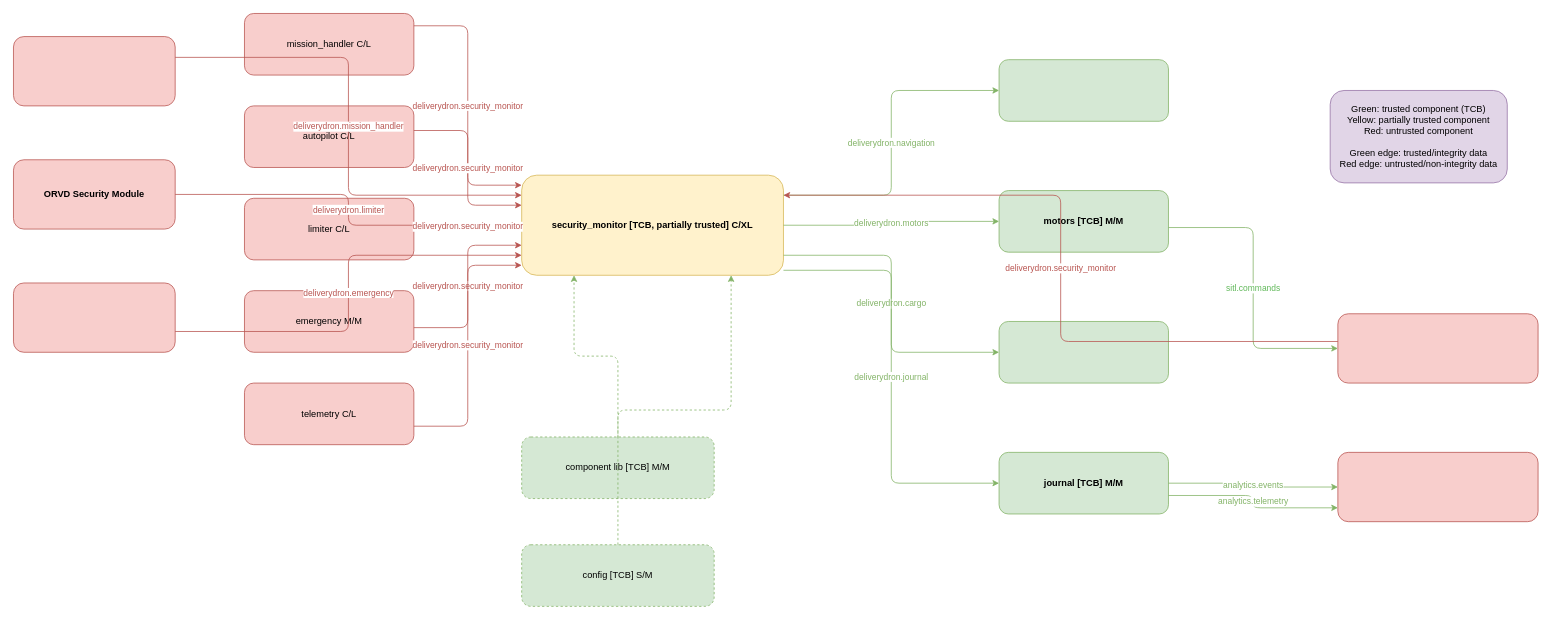
Some shapes in this 1552 by 620 pixel diagram are drawn without their labels. Each missing label, with the centre of its shape:
"cargo [TCB] S/M" goes at point 1083,352.
"DroneAnalytics" goes at point 1437,487.
"DronePort" goes at point 94,317.
"navigation [TCB] S/M" goes at point 1083,90.
"NUS" goes at point 94,71.
"SITL" goes at point 1437,348.
